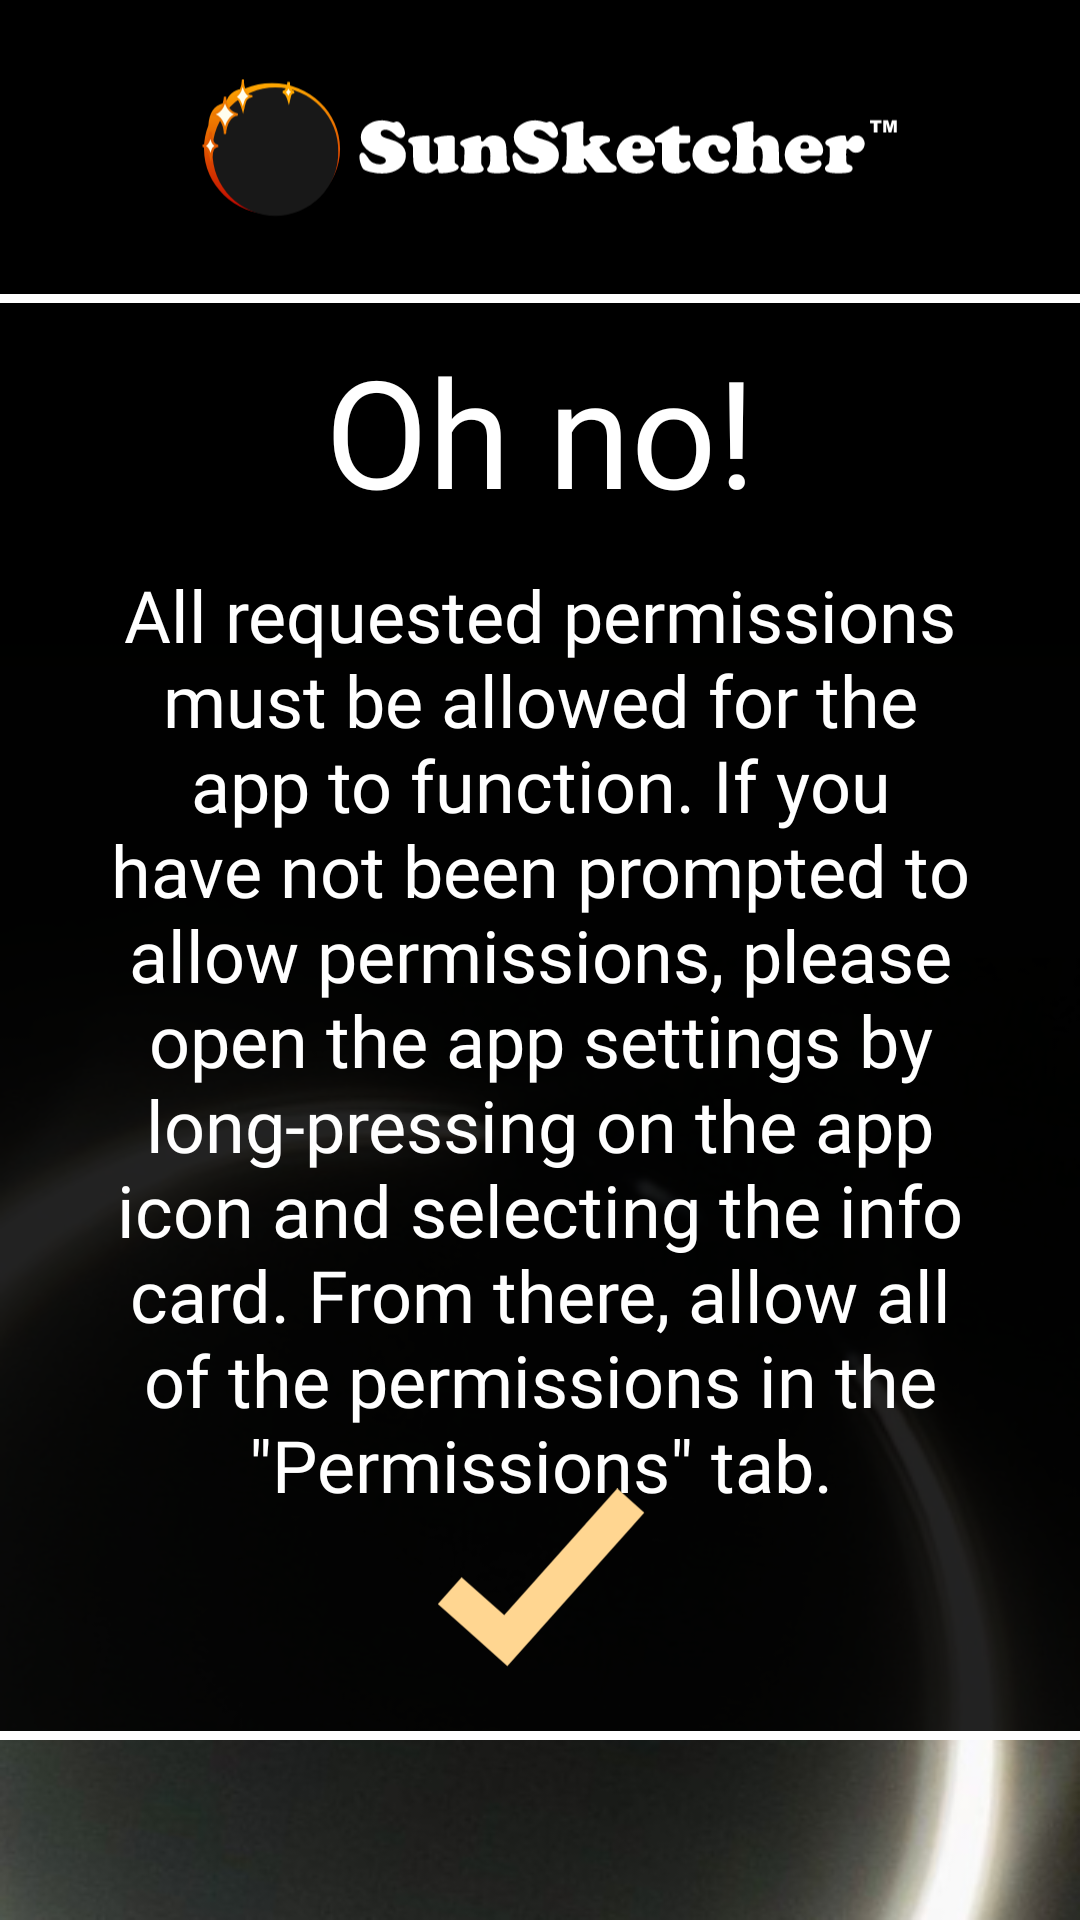

Icon click points for this 1080 × 1920 phone screenshot, format (x=x, y=y):
Done: (x=540, y=1577)
